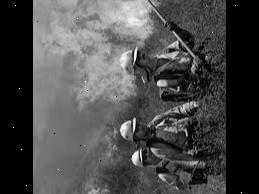fire: (35, 0, 160, 103), (37, 123, 118, 194)
